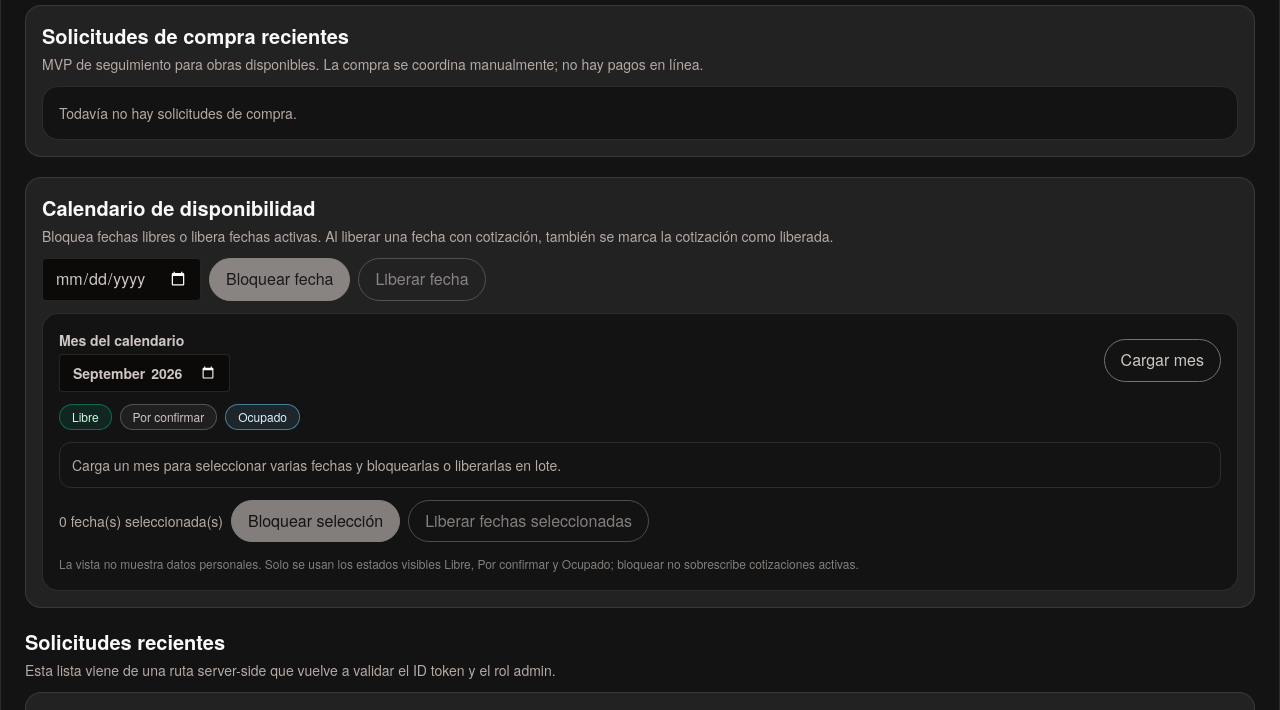
Test case: AdminStatusPanel › approves a pending appointment and refetches quotes and calendar
(page scrolled)
Click the button "Cargar mes".
click(1162, 361)  # box [1104, 339, 1221, 382]
(page scrolled)
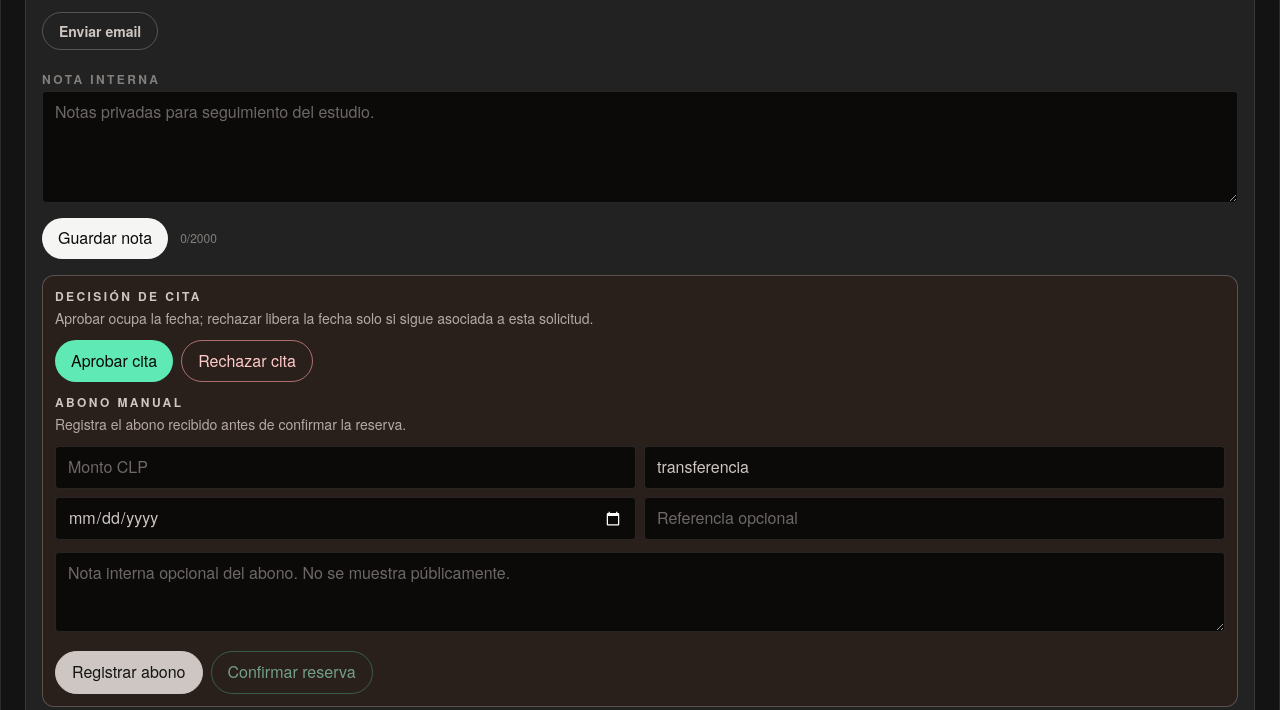
Now the button "Aprobar cita" is shown
Click the button "Aprobar cita".
click(114, 361)  # box [55, 340, 173, 382]
(page scrolled)
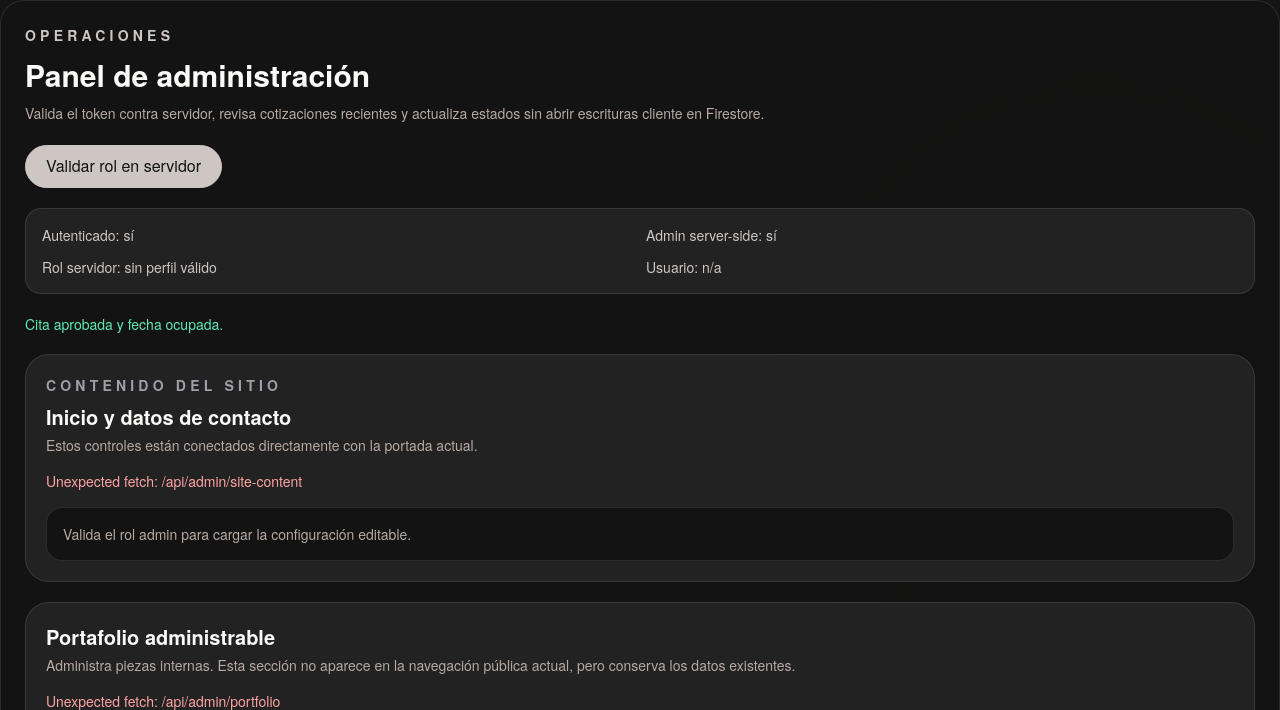
Now the text "Cita aprobada y fecha ocupada." is shown, box [25, 314, 223, 334]
